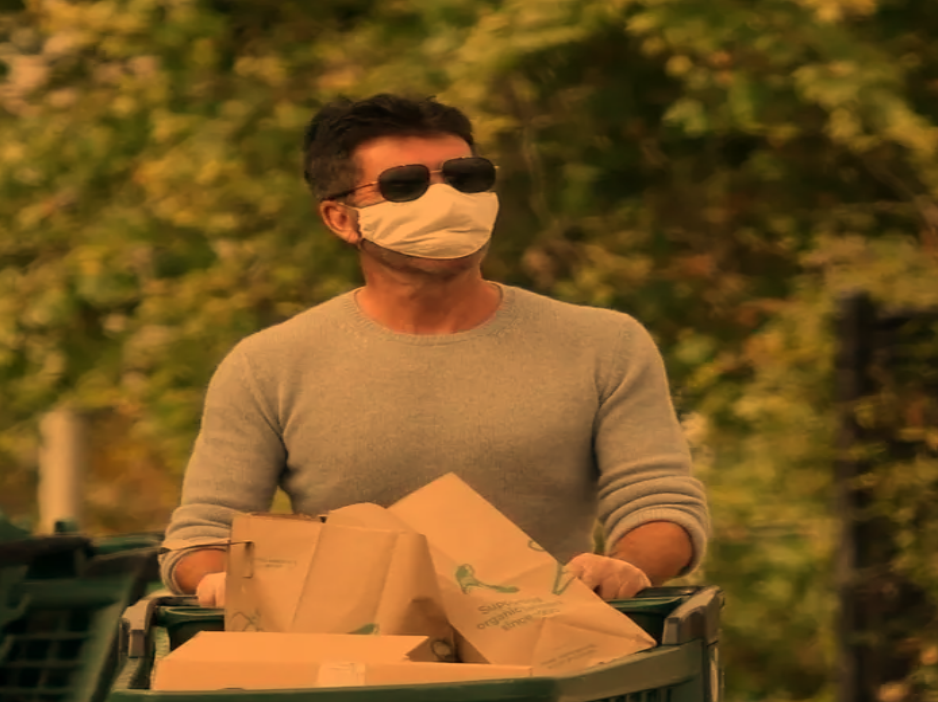mask_weared_incorrect: (300, 98, 508, 280)
